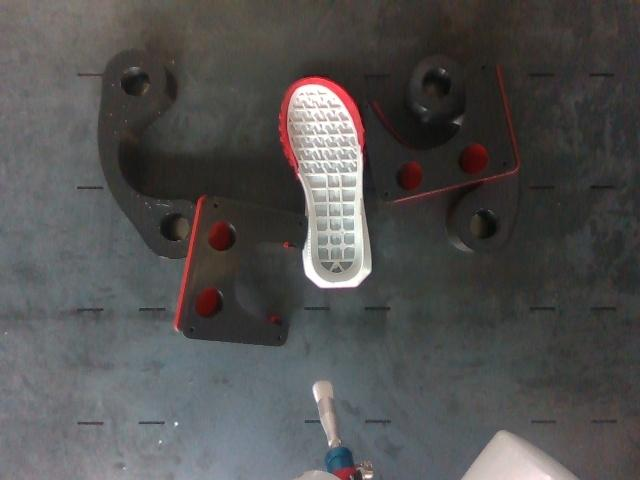shoes: (282, 78, 362, 283)
